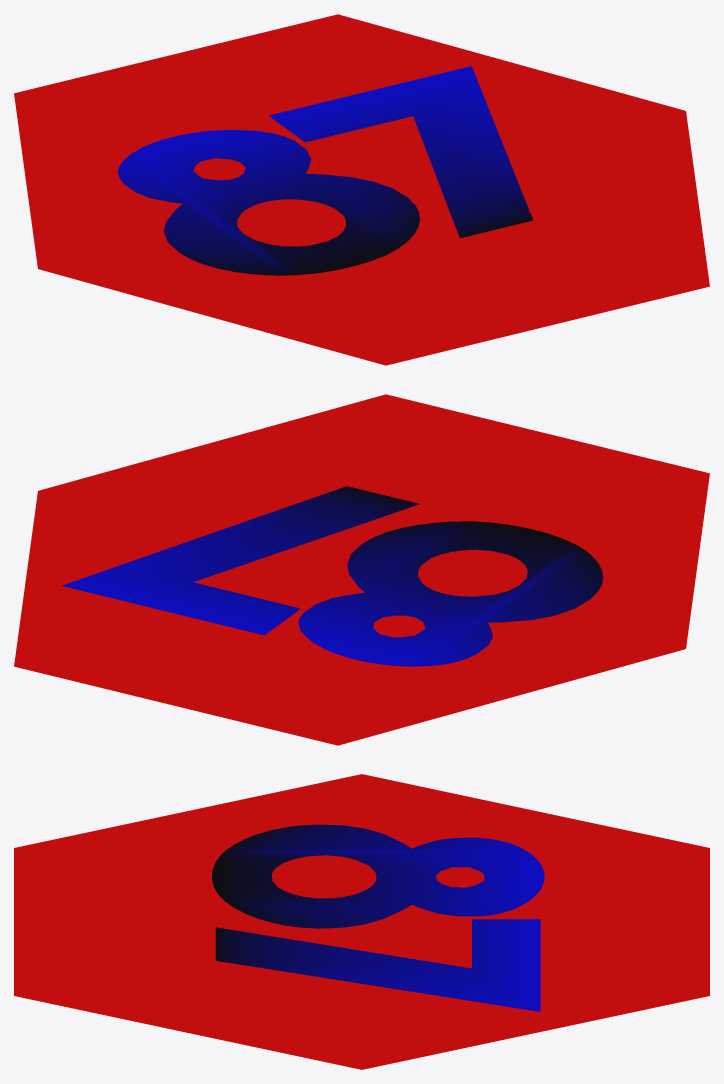
Rendered from SM_Number_87.fbx.
3 renders of one model, top to bottom at view 1: azimuth 30°, elevation 25°; view 2: azimuth 150°, elevation 25°; view 3: azimuth 270°, elevation 25°, orthographic. The views are drawn at different scales.
Visible parts, largest first — view 1: FBX_OUT; view 2: FBX_OUT; view 3: FBX_OUT.
Part boxes in pixels (x1,y1,x2,y2): FBX_OUT: (14,14,709,365); FBX_OUT: (14,394,709,745); FBX_OUT: (14,774,709,1069).
Size of the model in its own units: 50 by 0.2917 by 49.71.
